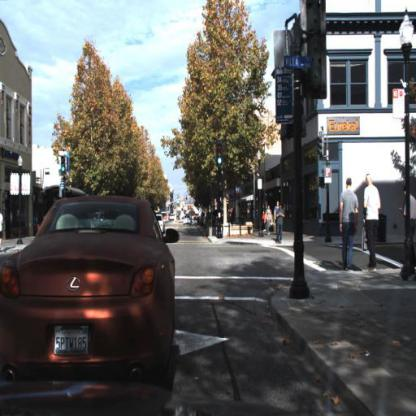car: (3, 193, 182, 387), (182, 215, 193, 229), (170, 214, 176, 221)
pedestrian: (336, 172, 357, 271), (362, 170, 382, 270), (399, 187, 416, 283), (276, 203, 286, 243), (1, 207, 9, 255), (267, 205, 275, 236), (1, 205, 4, 254), (232, 206, 240, 223), (51, 168, 57, 181)
trafficLight: (217, 142, 225, 170), (59, 156, 67, 178)
